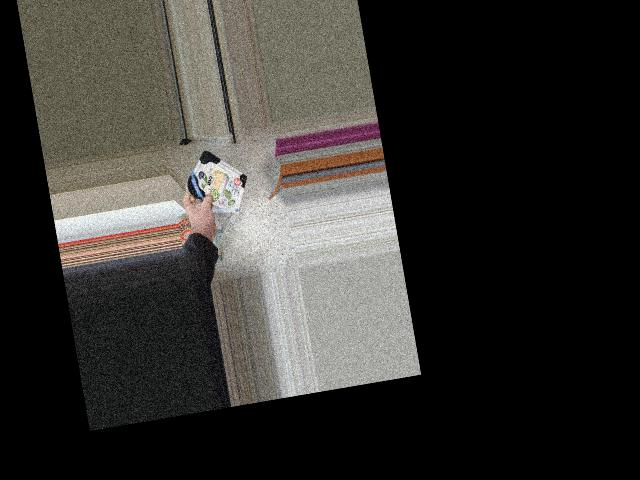cheese: (179, 145, 257, 216)
